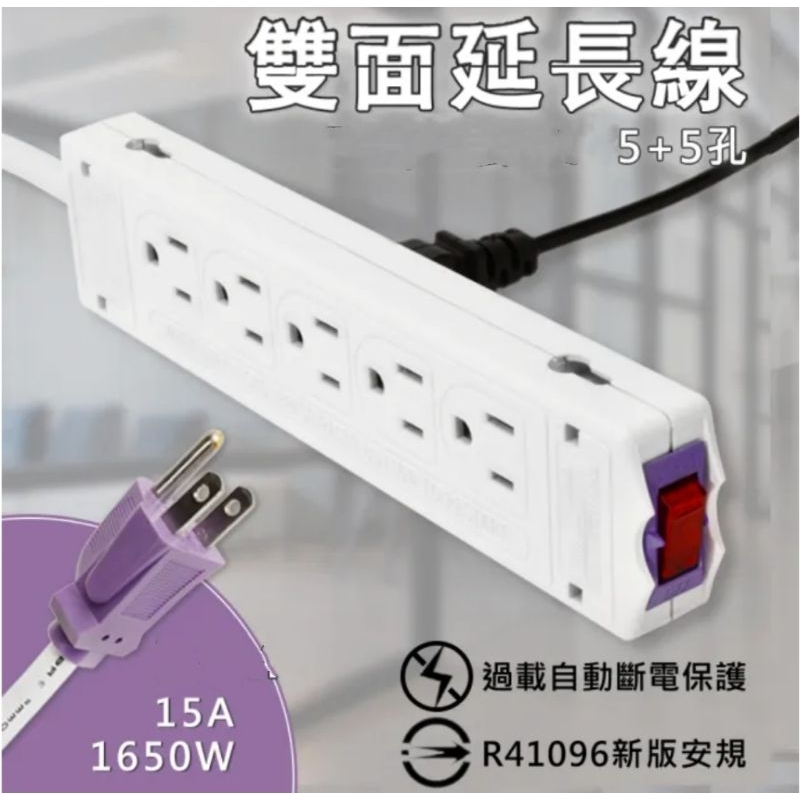socket: (57, 108, 728, 643)
